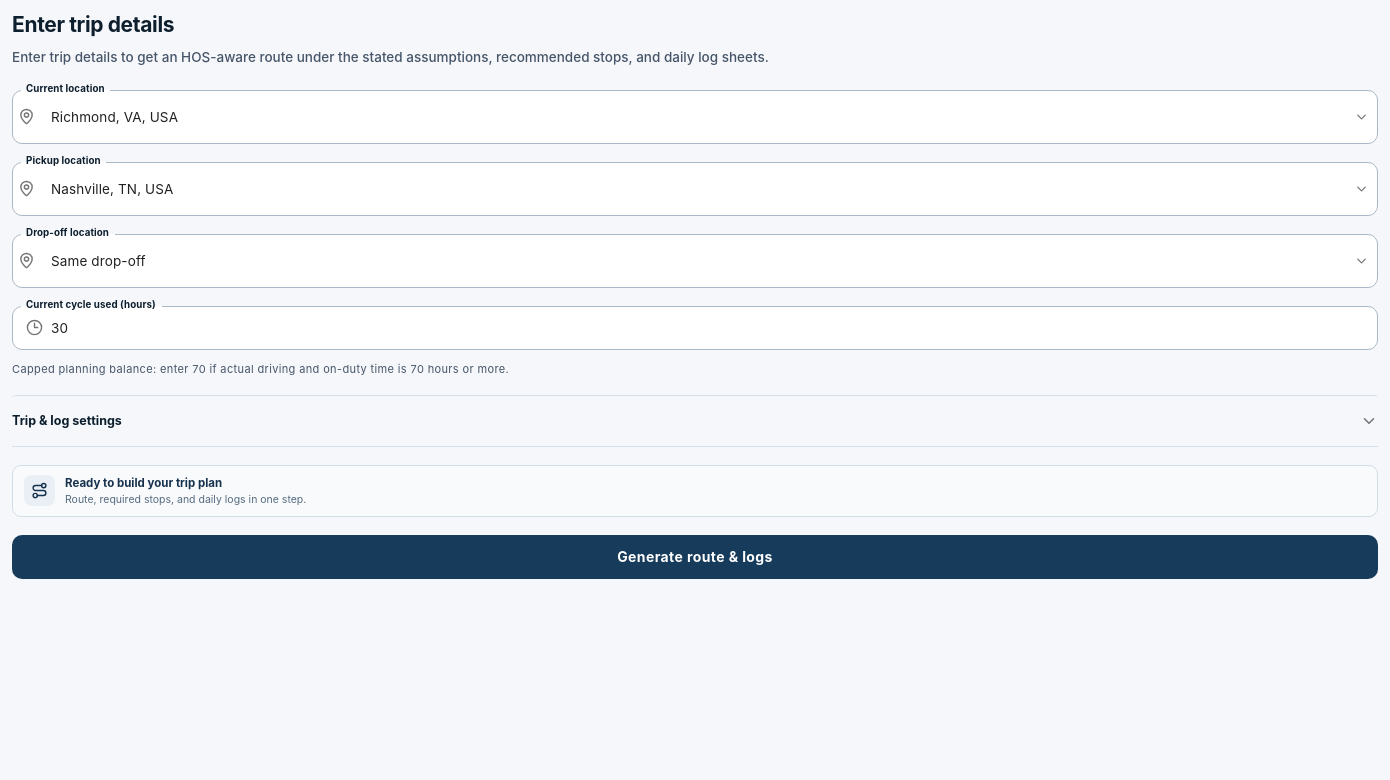
TripForm › rejects duplicate coordinates for current and drop-off
Click the button "Generate route & logs": (695, 557) [12,535,1378,579]
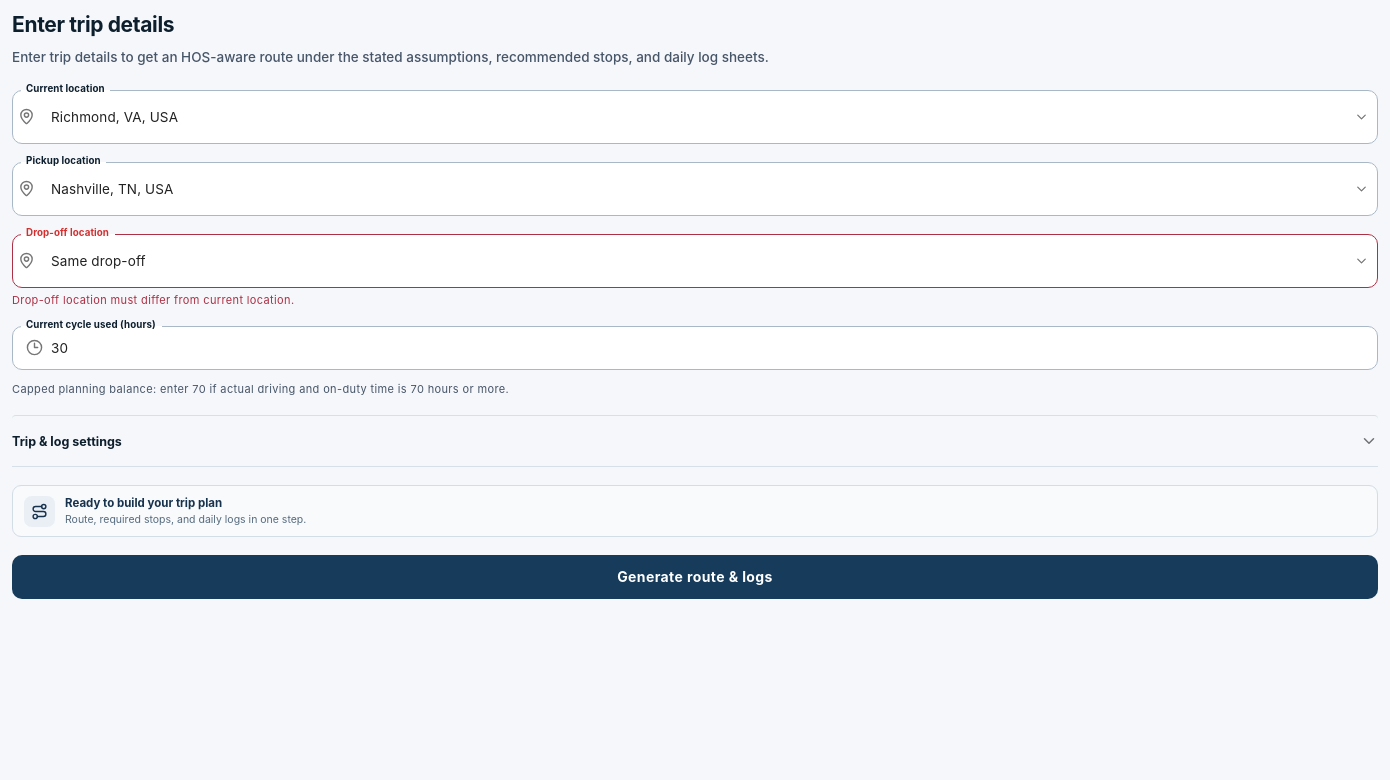
Now the message reads "Drop-off location must differ from current location.", box [12,292,294,306]
